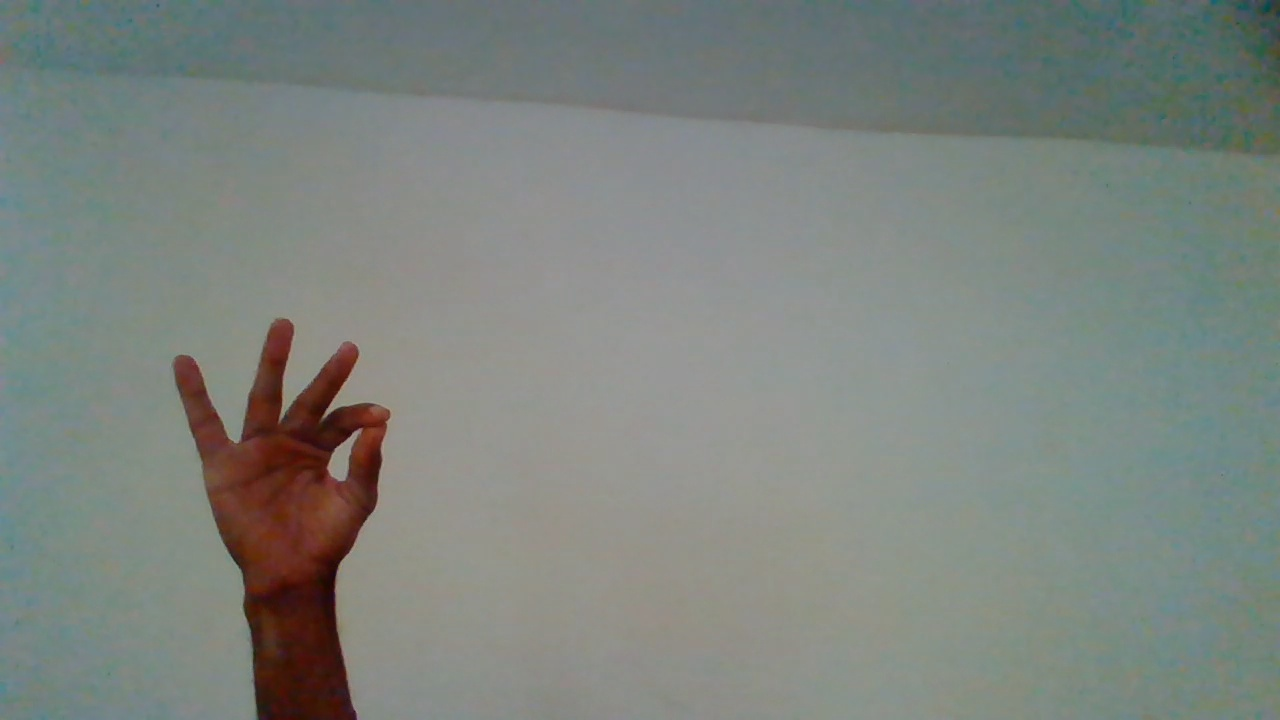le: (167, 322, 392, 707)
